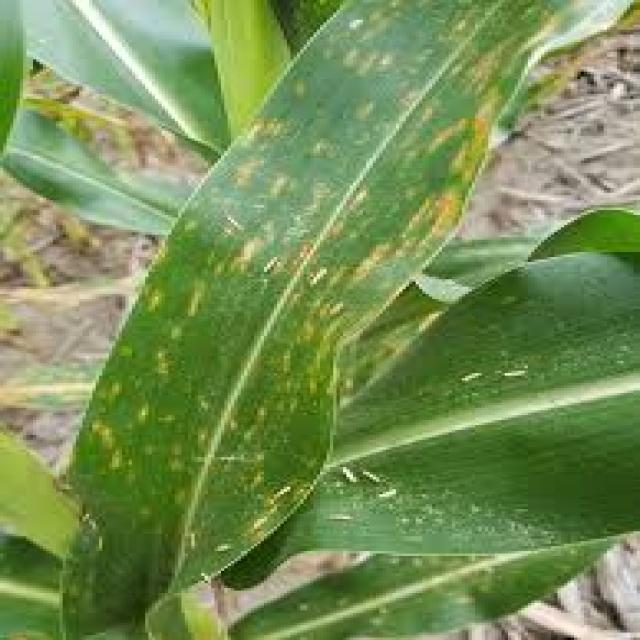Corn_Grey_Leaf_Spot: (63, 0, 389, 633)
